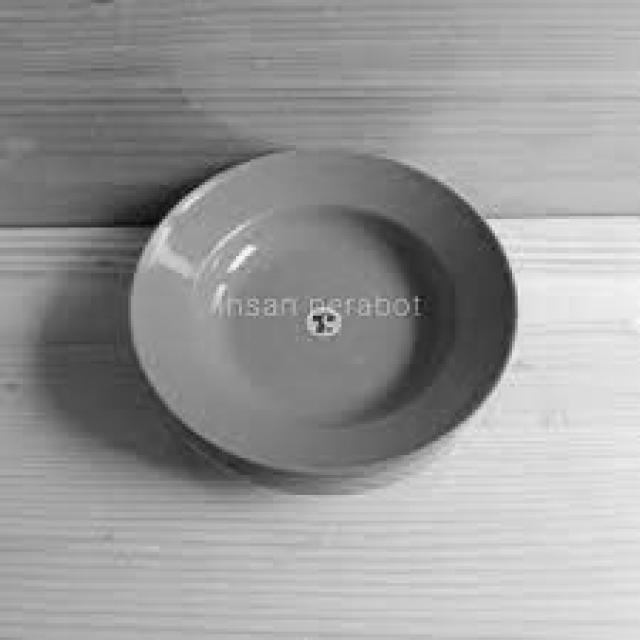dish: (96, 109, 541, 518)
